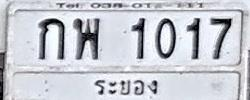0: (155, 17, 176, 59)
1: (132, 17, 146, 59), (186, 17, 200, 59)
7: (210, 17, 232, 59)
A01: (38, 17, 65, 60)
A30: (73, 17, 100, 60)
RYG: (87, 74, 169, 100)
